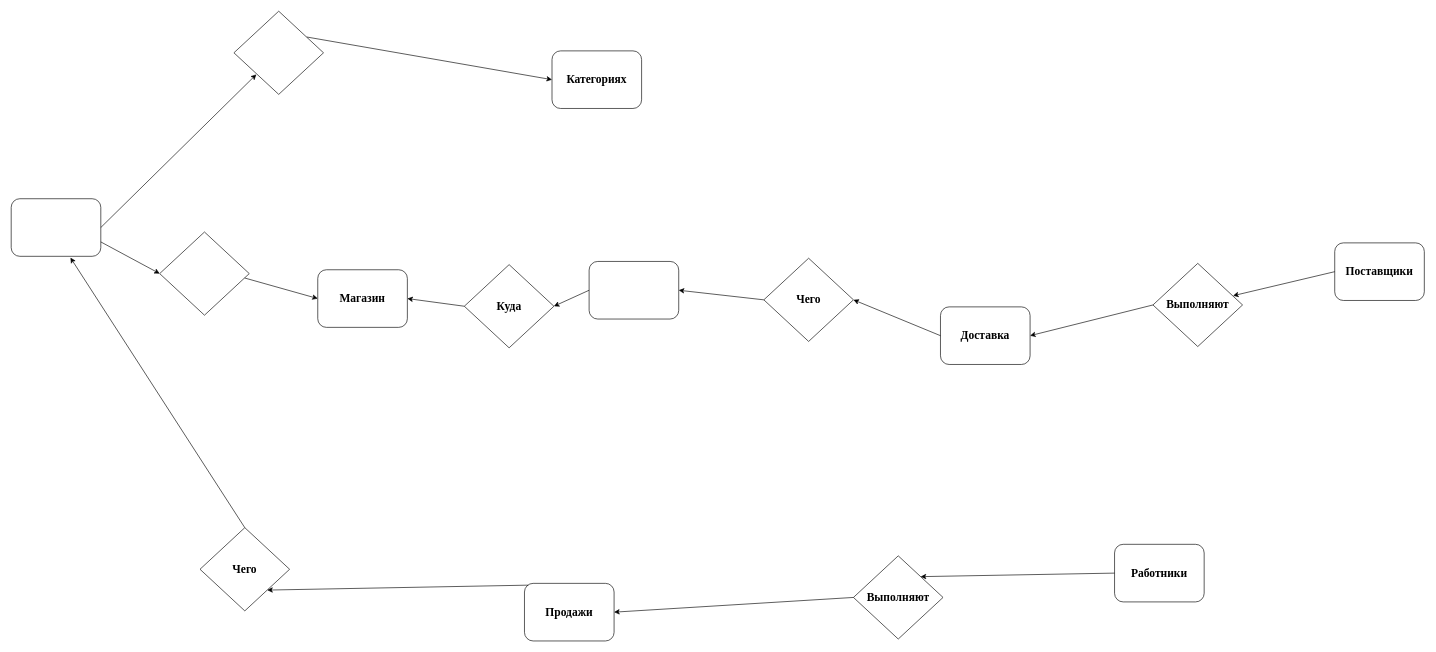
Some shapes in this 1436 by 652 pixel diagram are drawn without their labels. Each missing label, with the centre of its shape:
"Доставку Продуктов" belongs at [633,290].
"Находится в" belongs at [278,52].
"Находятся в" belongs at [204,273].
"Продукты" belongs at [56,227].
